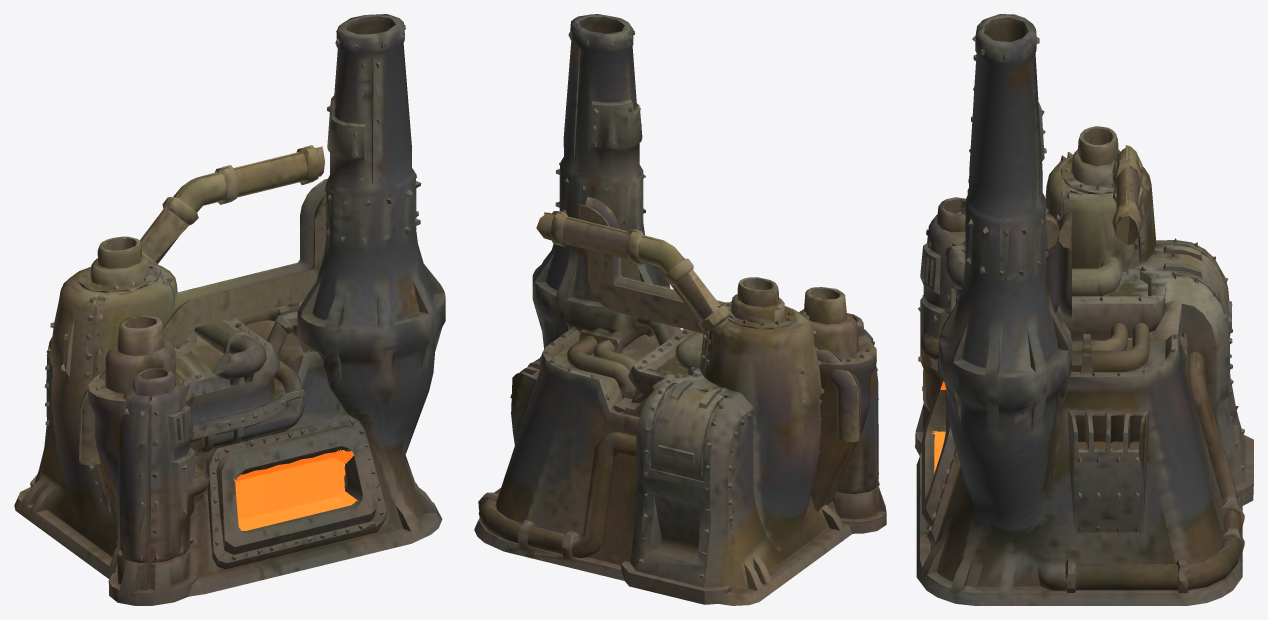
Rendered from steel-furnace.glb.
3 renders of one model, left to right at view 1: azimuth 30°, elevation 25°; view 2: azimuth 150°, elevation 25°; view 3: azimuth 270°, elevation 25°, orthographic. The views are drawn at different scales.
Parts seen in each view (by area): view 1: body; view 2: body; view 3: body.
Part boxes in pixels (x1,y1,x2,y2): body: [14, 14, 445, 605]; body: [474, 14, 886, 605]; body: [915, 14, 1253, 605].
Bounding box in the file's own units: 1.96 × 2.6 × 1.46.
Materials: 2 (2 with a texture image).
